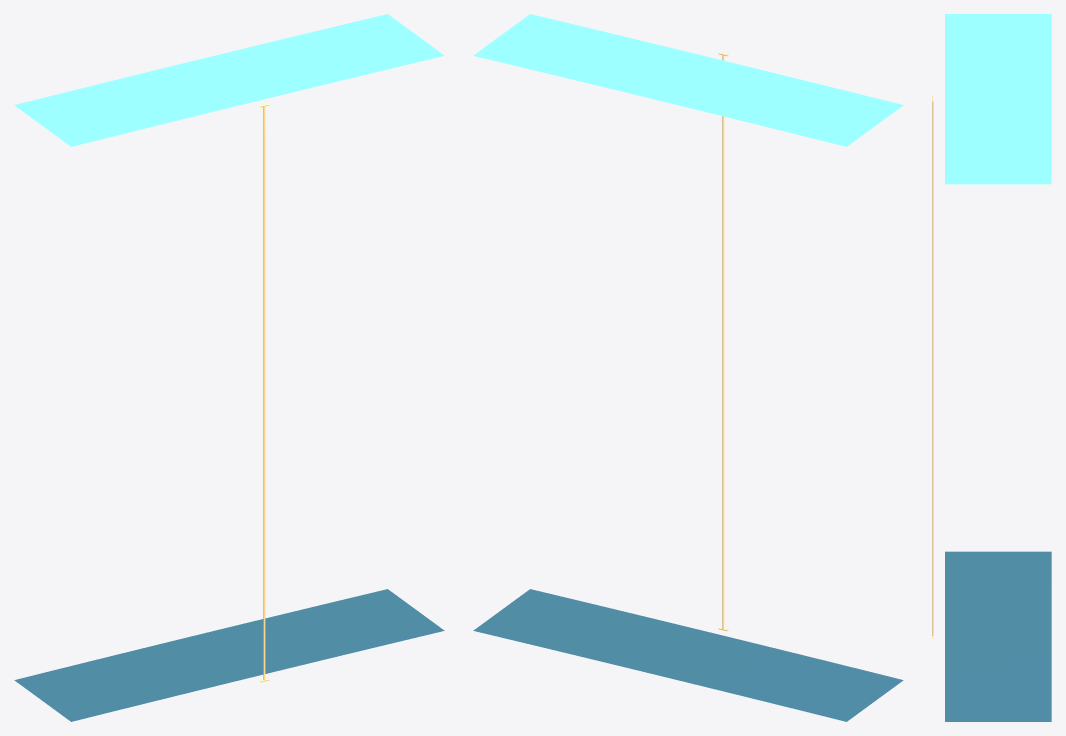
File: micro3d-karman-line.glb
The picture shows the model from 3 angles, left to right: view 1: azimuth 30°, elevation 25°; view 2: azimuth 150°, elevation 25°; view 3: azimuth 270°, elevation 25°; orthographic projection. The views are drawn at different scales.
Parts seen in each view (by area): view 1: Conventional 100 km altitude guide, Local spherical sea-level surface, Measurement guide; view 2: Local spherical sea-level surface, Conventional 100 km altitude guide, Measurement guide; view 3: Local spherical sea-level surface, Conventional 100 km altitude guide, Measurement guide.
Boxes of the visible parts, left/top/right/bottom form: Conventional 100 km altitude guide: left=14, top=14, right=444, bottom=146; Local spherical sea-level surface: left=14, top=589, right=444, bottom=721; Measurement guide: left=263, top=106, right=265, bottom=680; Local spherical sea-level surface: left=473, top=589, right=903, bottom=721; Conventional 100 km altitude guide: left=473, top=14, right=903, bottom=146; Measurement guide: left=722, top=55, right=724, bottom=629; Local spherical sea-level surface: left=945, top=551, right=1051, bottom=721; Conventional 100 km altitude guide: left=945, top=14, right=1051, bottom=184; Measurement guide: left=932, top=101, right=933, bottom=635.
Bounding box in the file's own units: 68 × 100 × 20.16.
